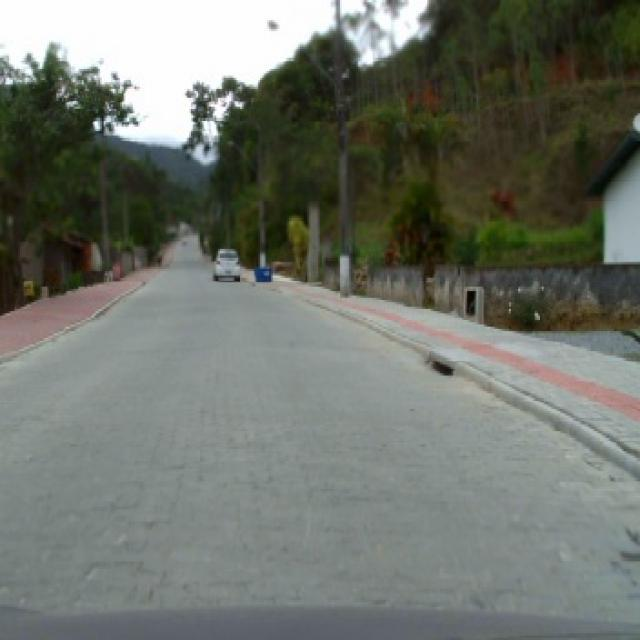Poth-hole: (427, 354, 455, 376)
